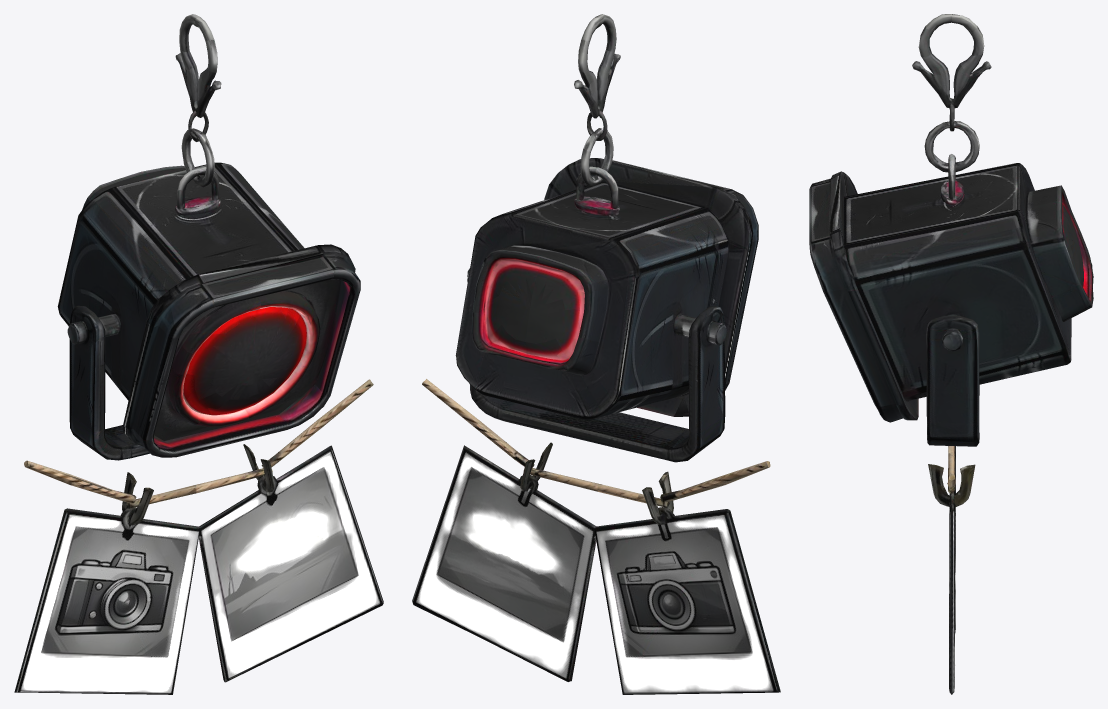
File: darkroom.glb
3 views of the same model, side by side, from view 1: azimuth 30°, elevation 25°; view 2: azimuth 150°, elevation 25°; view 3: azimuth 270°, elevation 25° (orthographic). The views are drawn at different scales.
Size of the model in its own units: 0.5762 by 1 by 0.4082.
Materials: 1 (1 with a texture image).
